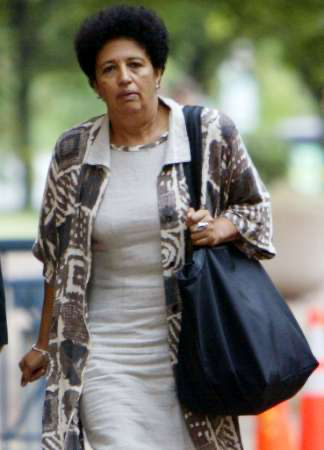Face: (88, 43, 164, 137)
